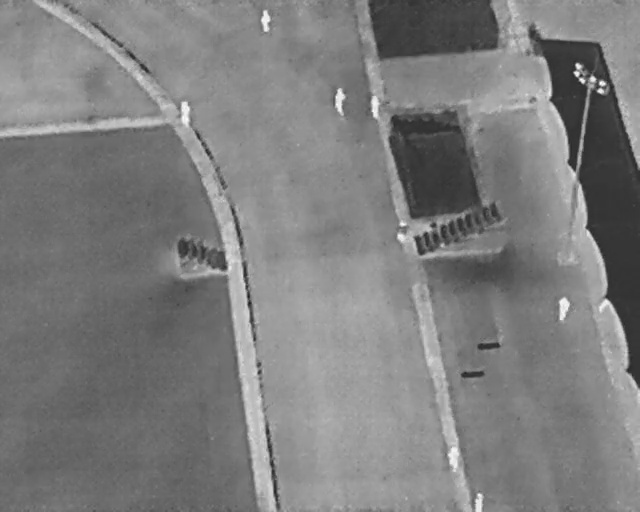Person: (331, 84, 349, 117), (555, 293, 572, 322), (445, 443, 461, 473), (367, 93, 382, 120), (178, 99, 192, 126), (257, 9, 272, 32), (472, 490, 485, 511)
